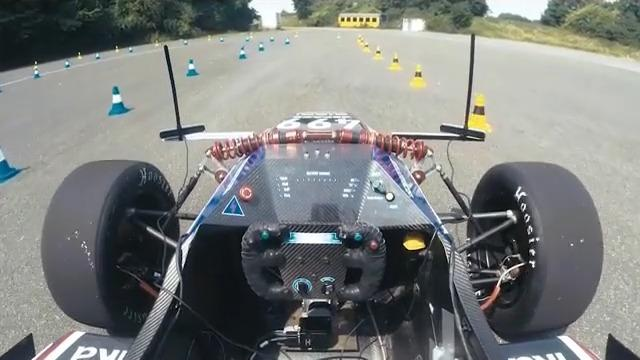blue_cone: (0, 132, 17, 184), (104, 85, 130, 117), (186, 59, 200, 77), (238, 46, 248, 60), (33, 70, 41, 79), (258, 42, 265, 51), (284, 37, 291, 45), (269, 35, 275, 43), (95, 52, 101, 60), (183, 39, 189, 47), (65, 59, 70, 68), (128, 46, 134, 53), (245, 36, 250, 43), (220, 35, 225, 42)
yellow_cone: (461, 93, 494, 135), (408, 65, 428, 90), (387, 53, 404, 71), (371, 46, 386, 60), (361, 42, 370, 53), (76, 52, 83, 60), (358, 39, 366, 46), (154, 38, 160, 47), (355, 35, 362, 42), (33, 61, 38, 69), (114, 46, 120, 52)
